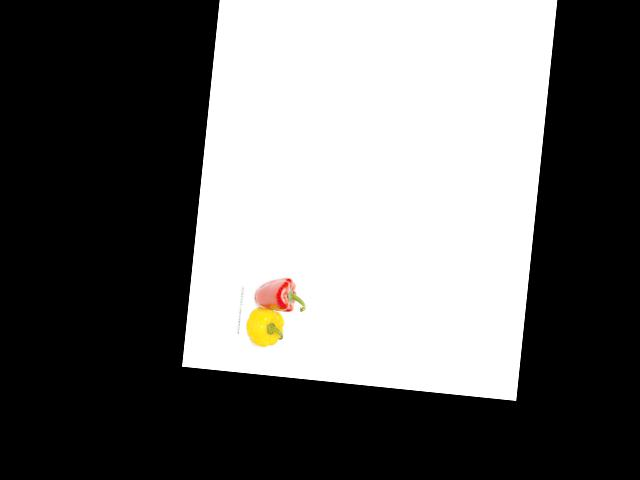bell_pepper: (240, 304, 289, 351)
